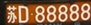D: (18, 6, 29, 23)
